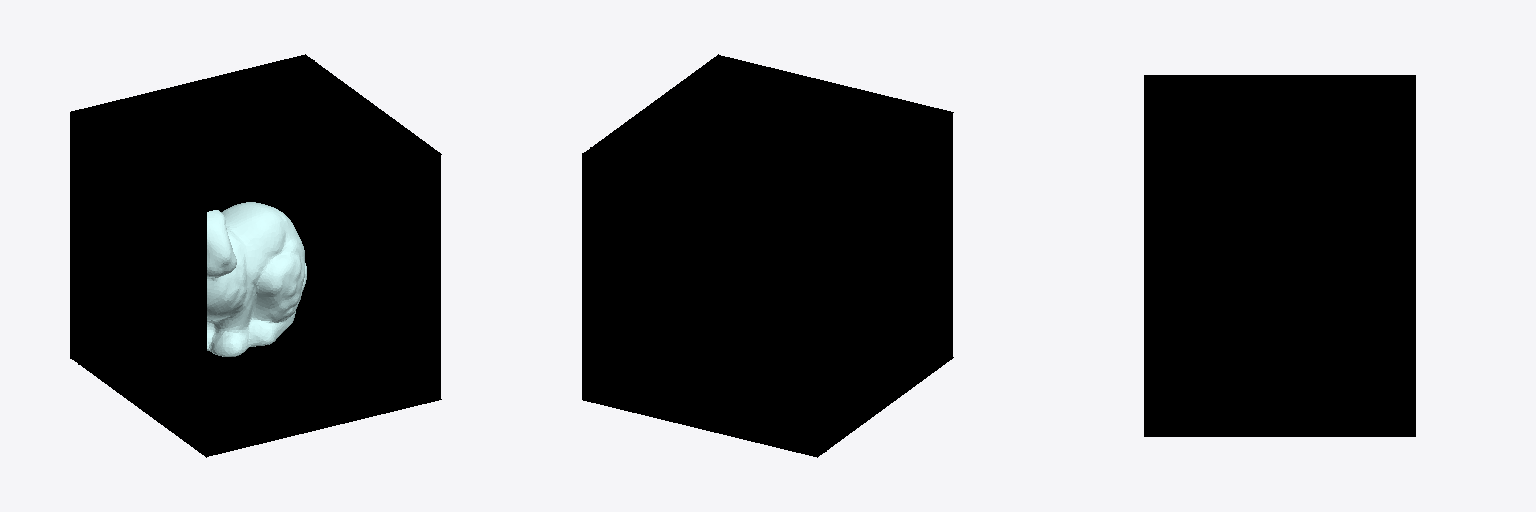
File: bunny.obj
3 renders of one model, left to right at view 1: azimuth 30°, elevation 25°; view 2: azimuth 150°, elevation 25°; view 3: azimuth 270°, elevation 25°, orthographic.
Bounding box in the file's own units: 25 × 25 × 25.